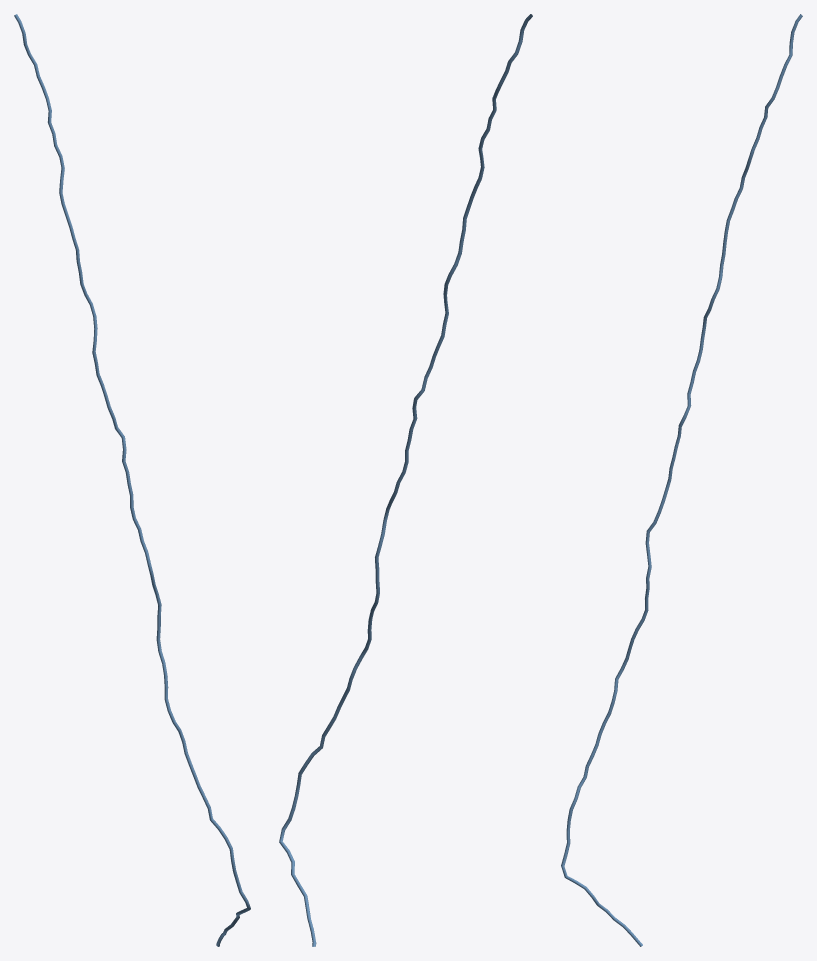
The model's file is sweep293.fbx.
3 views of the same model, side by side, from view 1: azimuth 30°, elevation 25°; view 2: azimuth 210°, elevation 25°; view 3: azimuth 270°, elevation 25° (orthographic). The views are drawn at different scales.
Parts seen in each view (by area): view 1: sweep293; view 2: sweep293; view 3: sweep293.
Part boxes in pixels (<box>): sweep293: <box>14,14,250,946</box>; sweep293: <box>279,14,532,946</box>; sweep293: <box>561,14,802,946</box>.
Size of the model in its own units: 0.7862 by 5.49 by 1.37.
